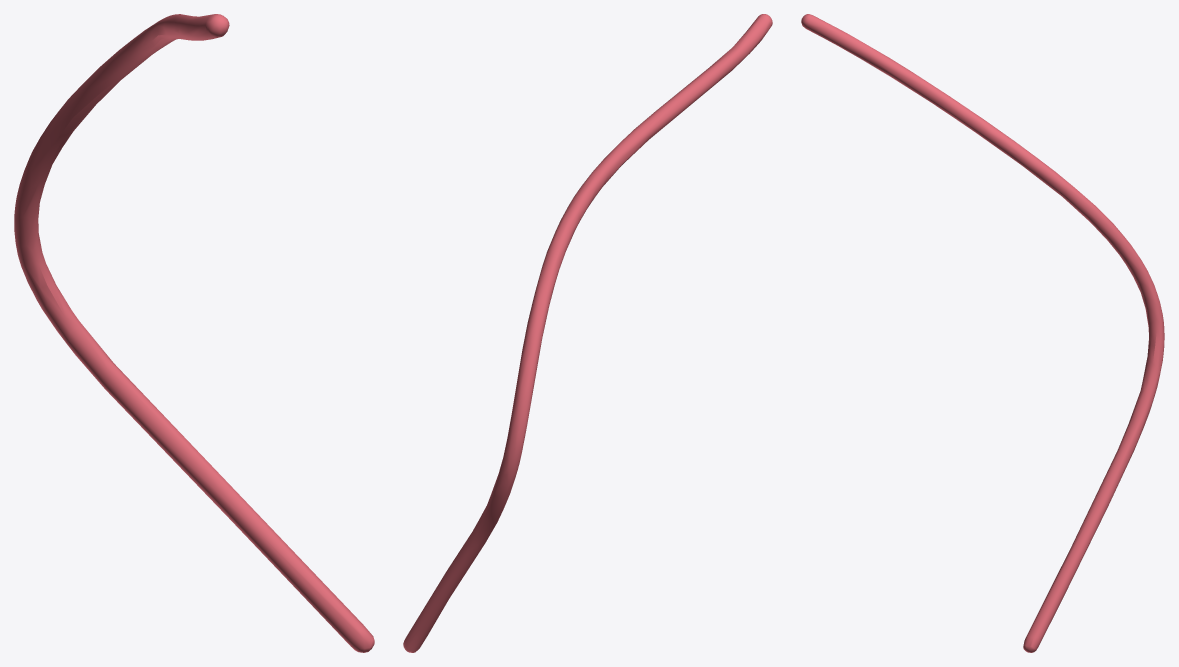
Rendered from fma52005_fj4997.glb.
3 views of the same model, side by side, from view 1: azimuth 30°, elevation 25°; view 2: azimuth 150°, elevation 25°; view 3: azimuth 270°, elevation 25° (orthographic). The views are drawn at different scales.
Parts seen in each view (by area): view 1: FMA52005_FJ4997; view 2: FMA52005_FJ4997; view 3: FMA52005_FJ4997.
Part boxes in pixels (x1,y1,x2,y2): FMA52005_FJ4997: [14, 14, 374, 652]; FMA52005_FJ4997: [403, 14, 772, 652]; FMA52005_FJ4997: [801, 14, 1164, 652].
Size of the model in its own units: 0.0126 by 0.0299 by 0.0183.
